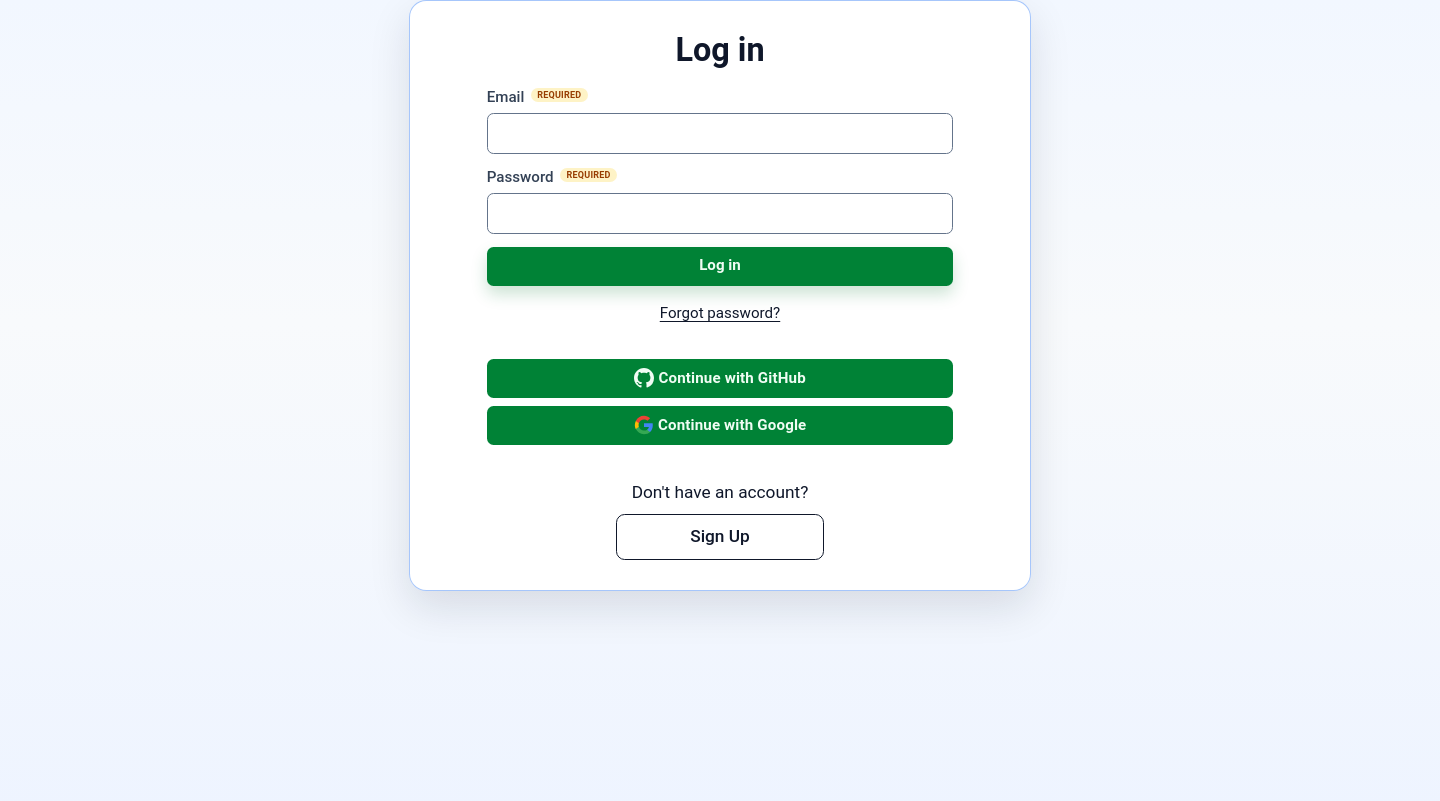
it: LogIn Form Submit › Redirects to Home on successful form submit
Type "new@user.com" into the field labelled "Email required" at (720, 134), box [487,113,953,154]
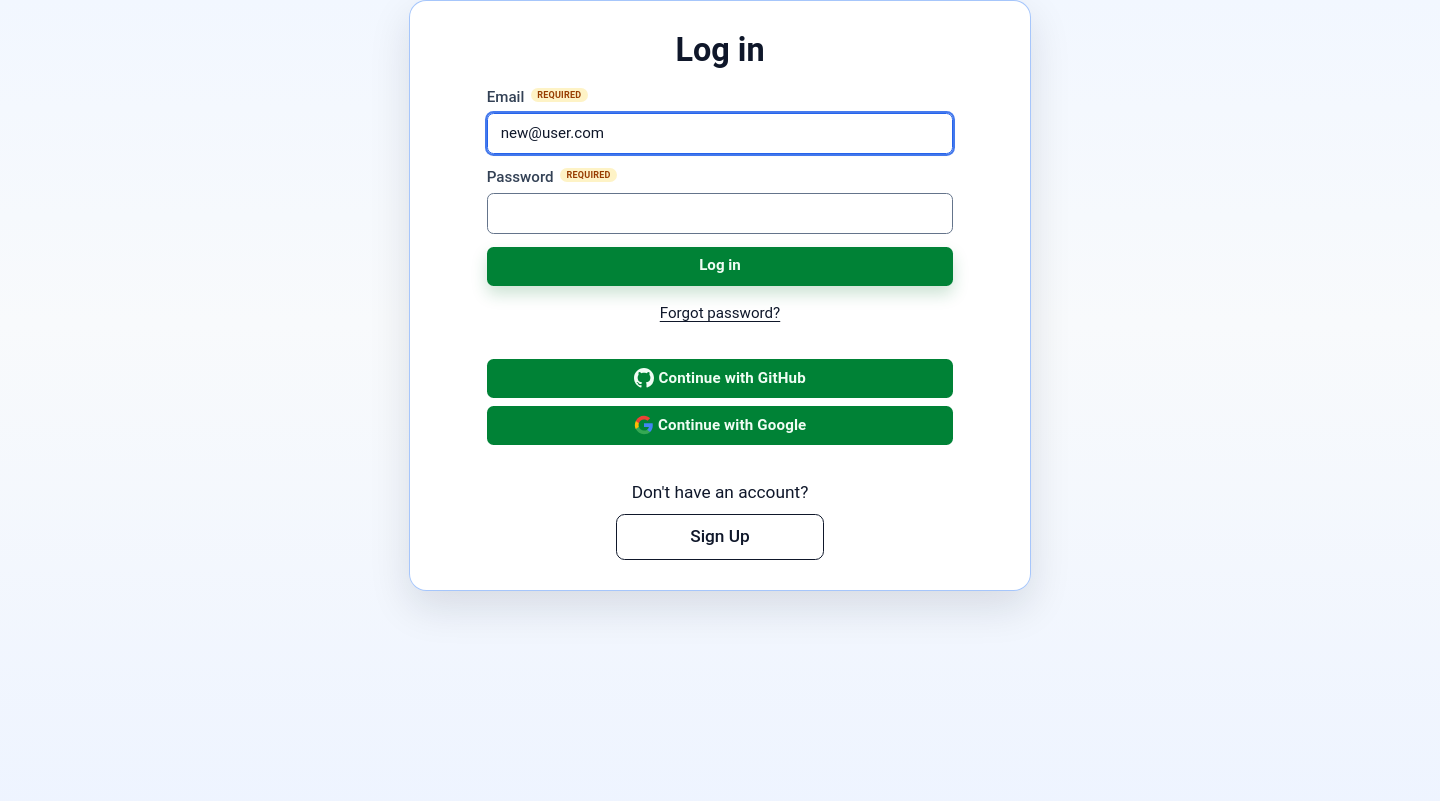
Type "Password123" into the password field labelled "Password required" at (720, 213), box [487,193,953,234]
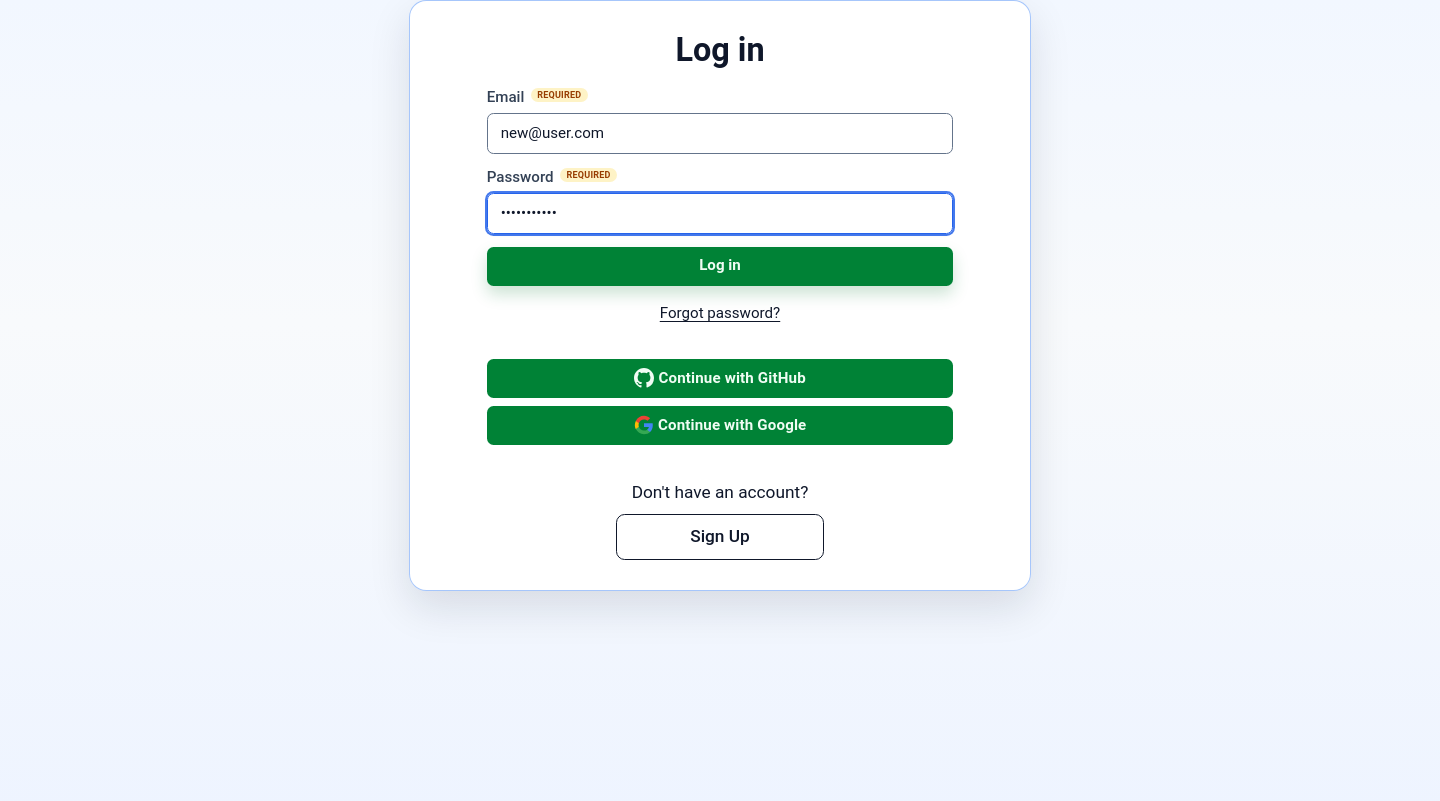
Click the button "Log in" at (720, 266), box [487,247,953,286]
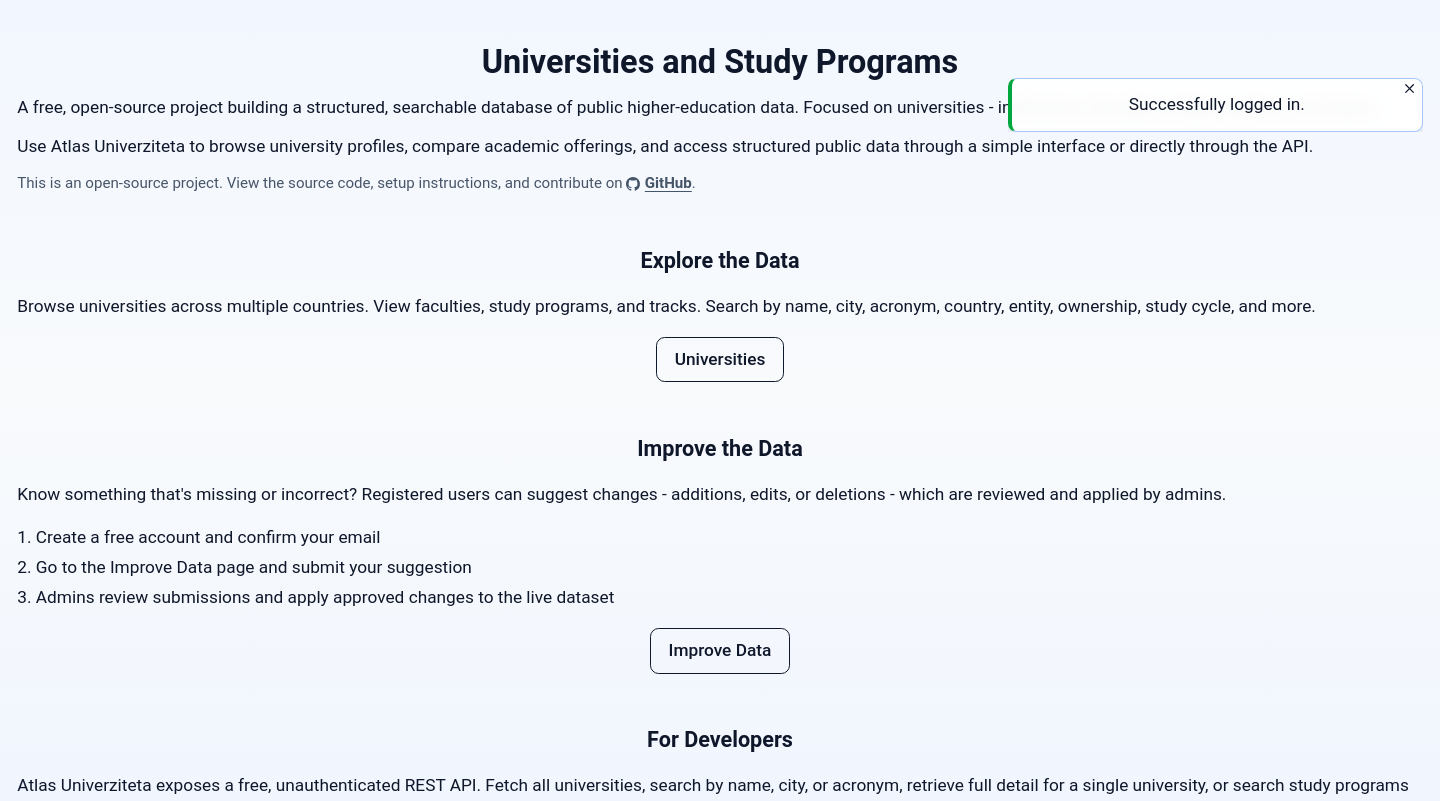
Expected: the heading "Universities and Study Programs" is shown, [482,43,958,81]
